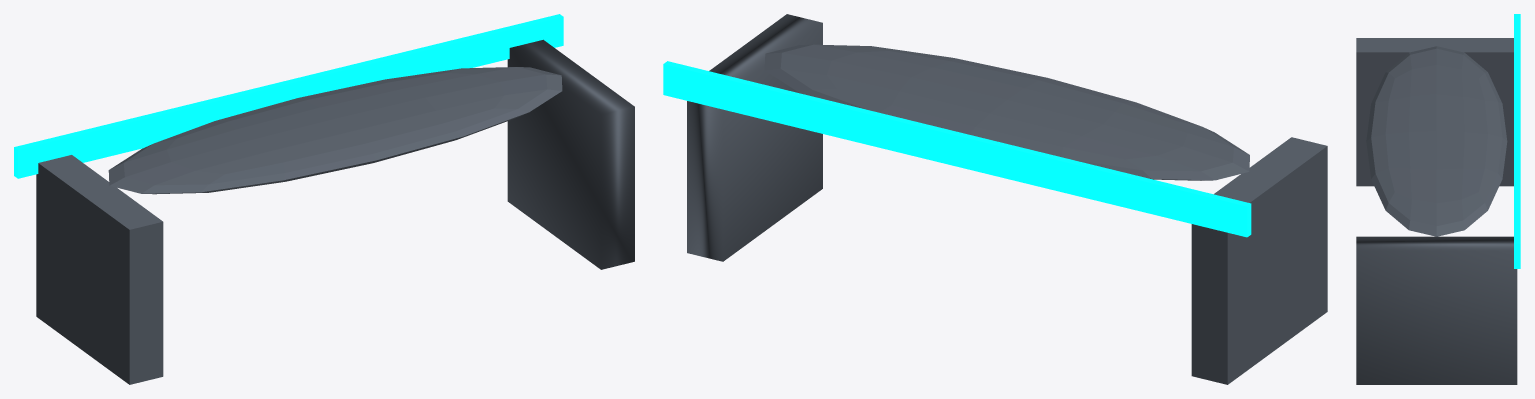
File: neom_bench_prop.glb
3 views of the same model, side by side, from view 1: azimuth 30°, elevation 25°; view 2: azimuth 150°, elevation 25°; view 3: azimuth 270°, elevation 25° (orthographic). The views are drawn at different scales.
Visible parts, largest first — view 1: Cube, Cube.002, Cube.003, Cube.001; view 2: Cube, Cube.002, Cube.001, Cube.003; view 3: Cube.003, Cube, Cube.002, Cube.001.
Boxes of the visible parts, x1,y1,x2,y2 form: Cube: (108, 67, 562, 194); Cube.002: (36, 155, 163, 384); Cube.003: (507, 39, 634, 269); Cube.001: (14, 14, 563, 178); Cube: (764, 44, 1249, 180); Cube.002: (1191, 137, 1327, 384); Cube.001: (663, 61, 1251, 237); Cube.003: (687, 14, 822, 261); Cube.003: (1356, 236, 1517, 384); Cube: (1366, 46, 1507, 236); Cube.002: (1356, 38, 1513, 186); Cube.001: (1514, 14, 1520, 268).
Bounding box in the file's own units: 1.62 × 0.491 × 0.49.
